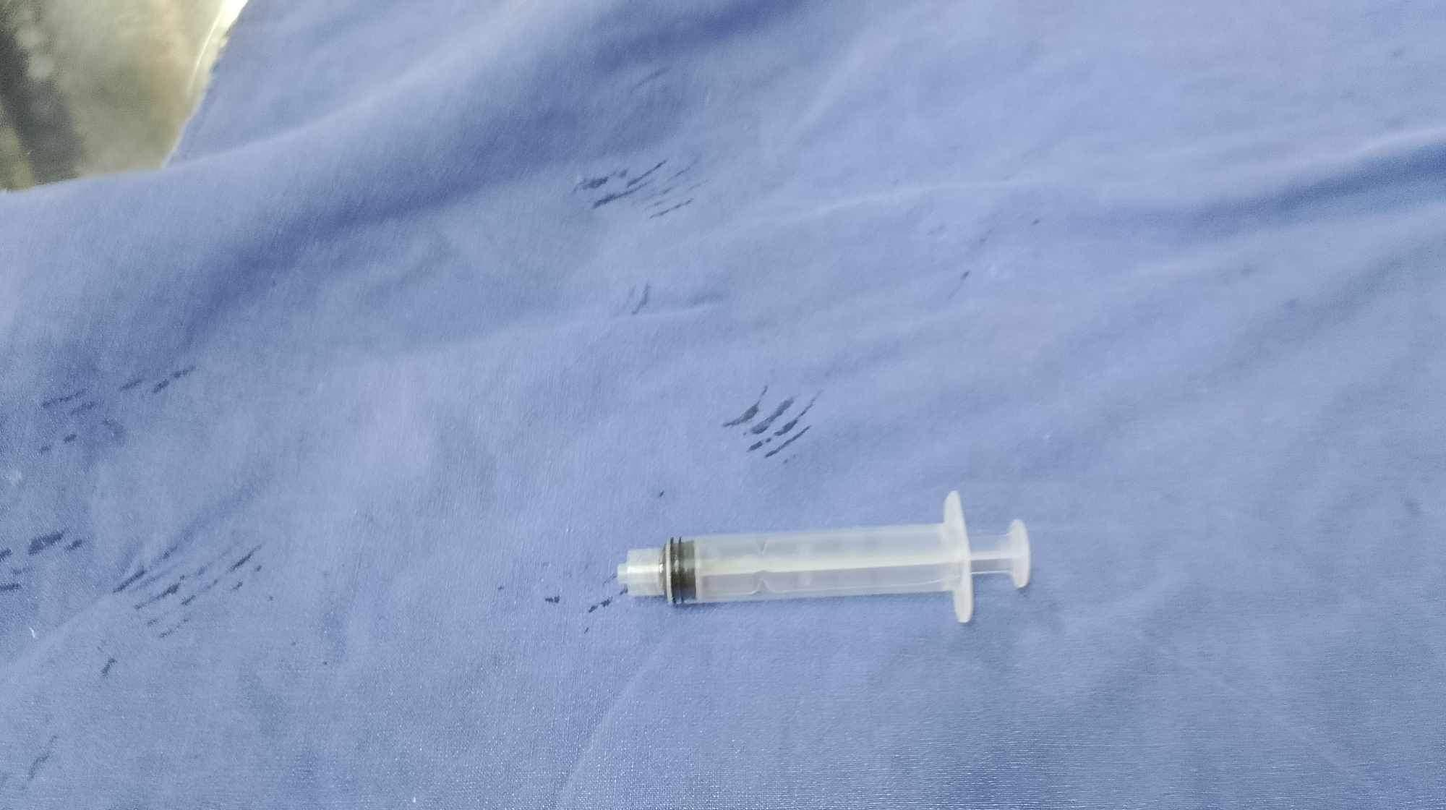Pathological: (4, 3, 1439, 806)
Sharps: (615, 488, 1032, 624)
